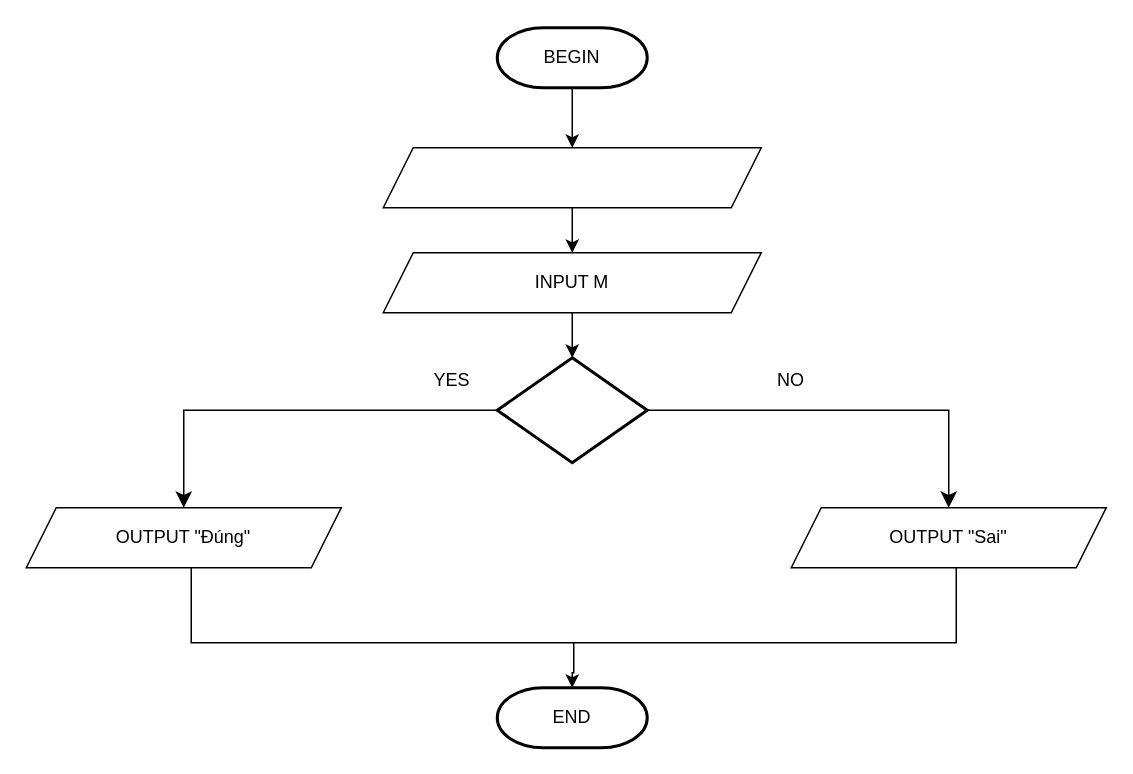
Some shapes in this 1133 by 774 pixel diagram are drawn without their labels. The shapes that lost their labels are listed below. From the top down, each one's centre as x and y in pixels, then its label:
At pixel 571 177: "INPUT N random 0-9".
At pixel 571 410: "N==M".
